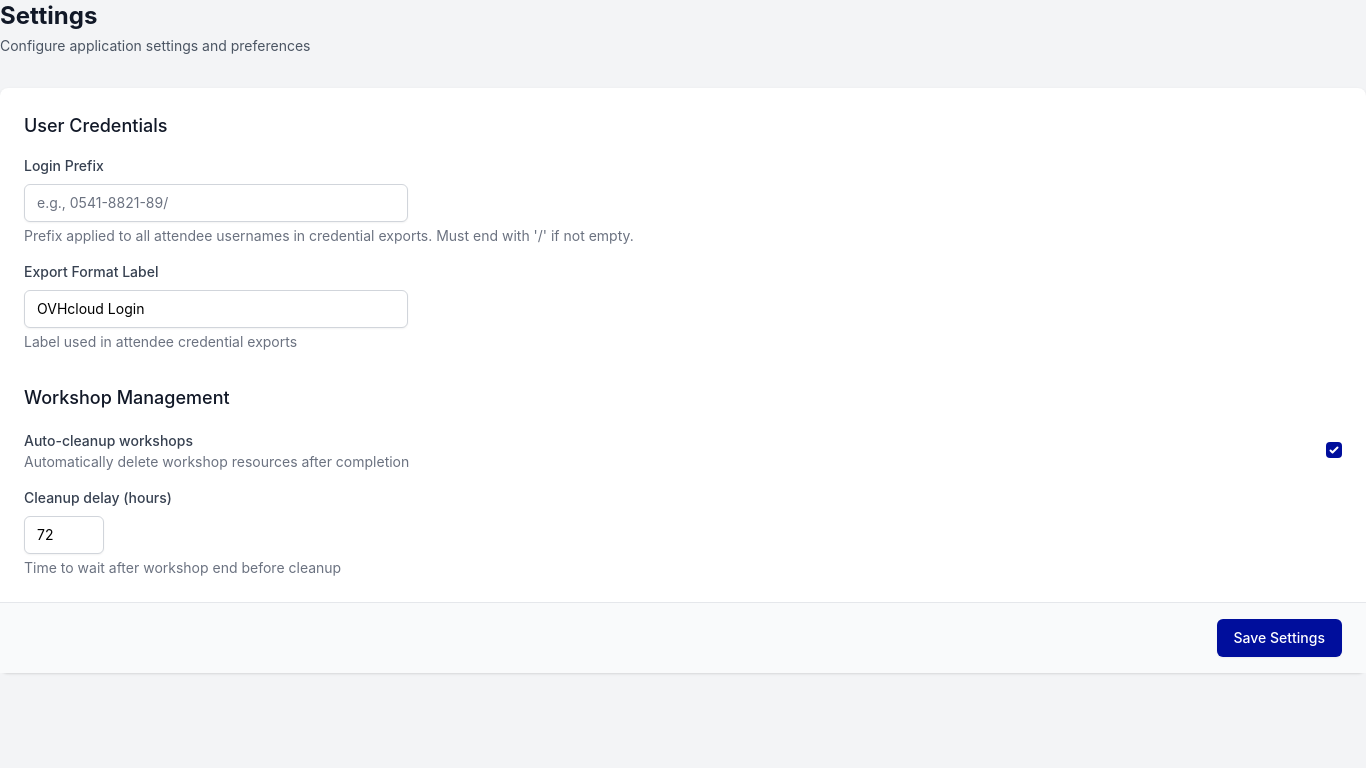
Settings - Refactored Page › should show success confirmation when settings are saved
Click the button "Save Settings".
click(1279, 638)  # box [1217, 619, 1342, 657]
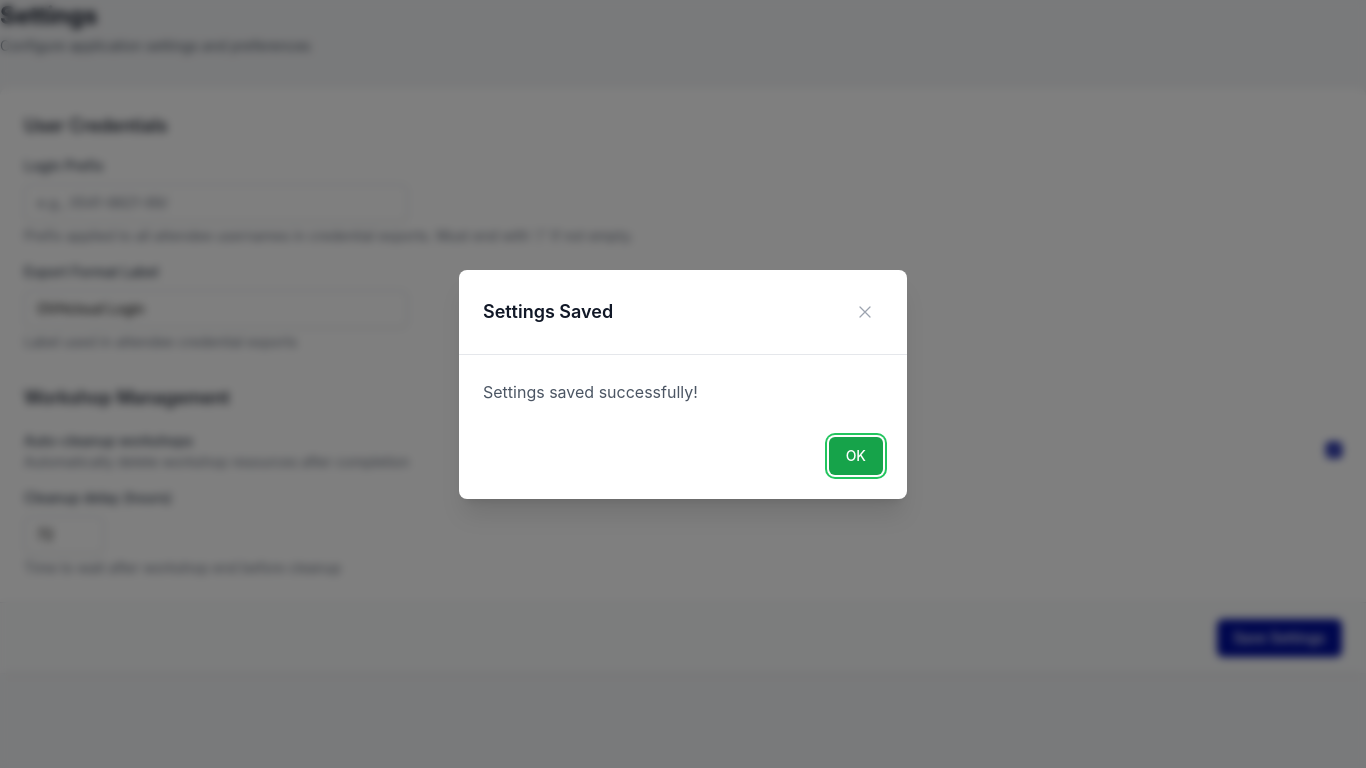
expect the heading "Settings Saved" is shown: met, box [483, 298, 613, 326]
expect the text "Settings saved successfully!" is shown: met, box [483, 382, 698, 402]
